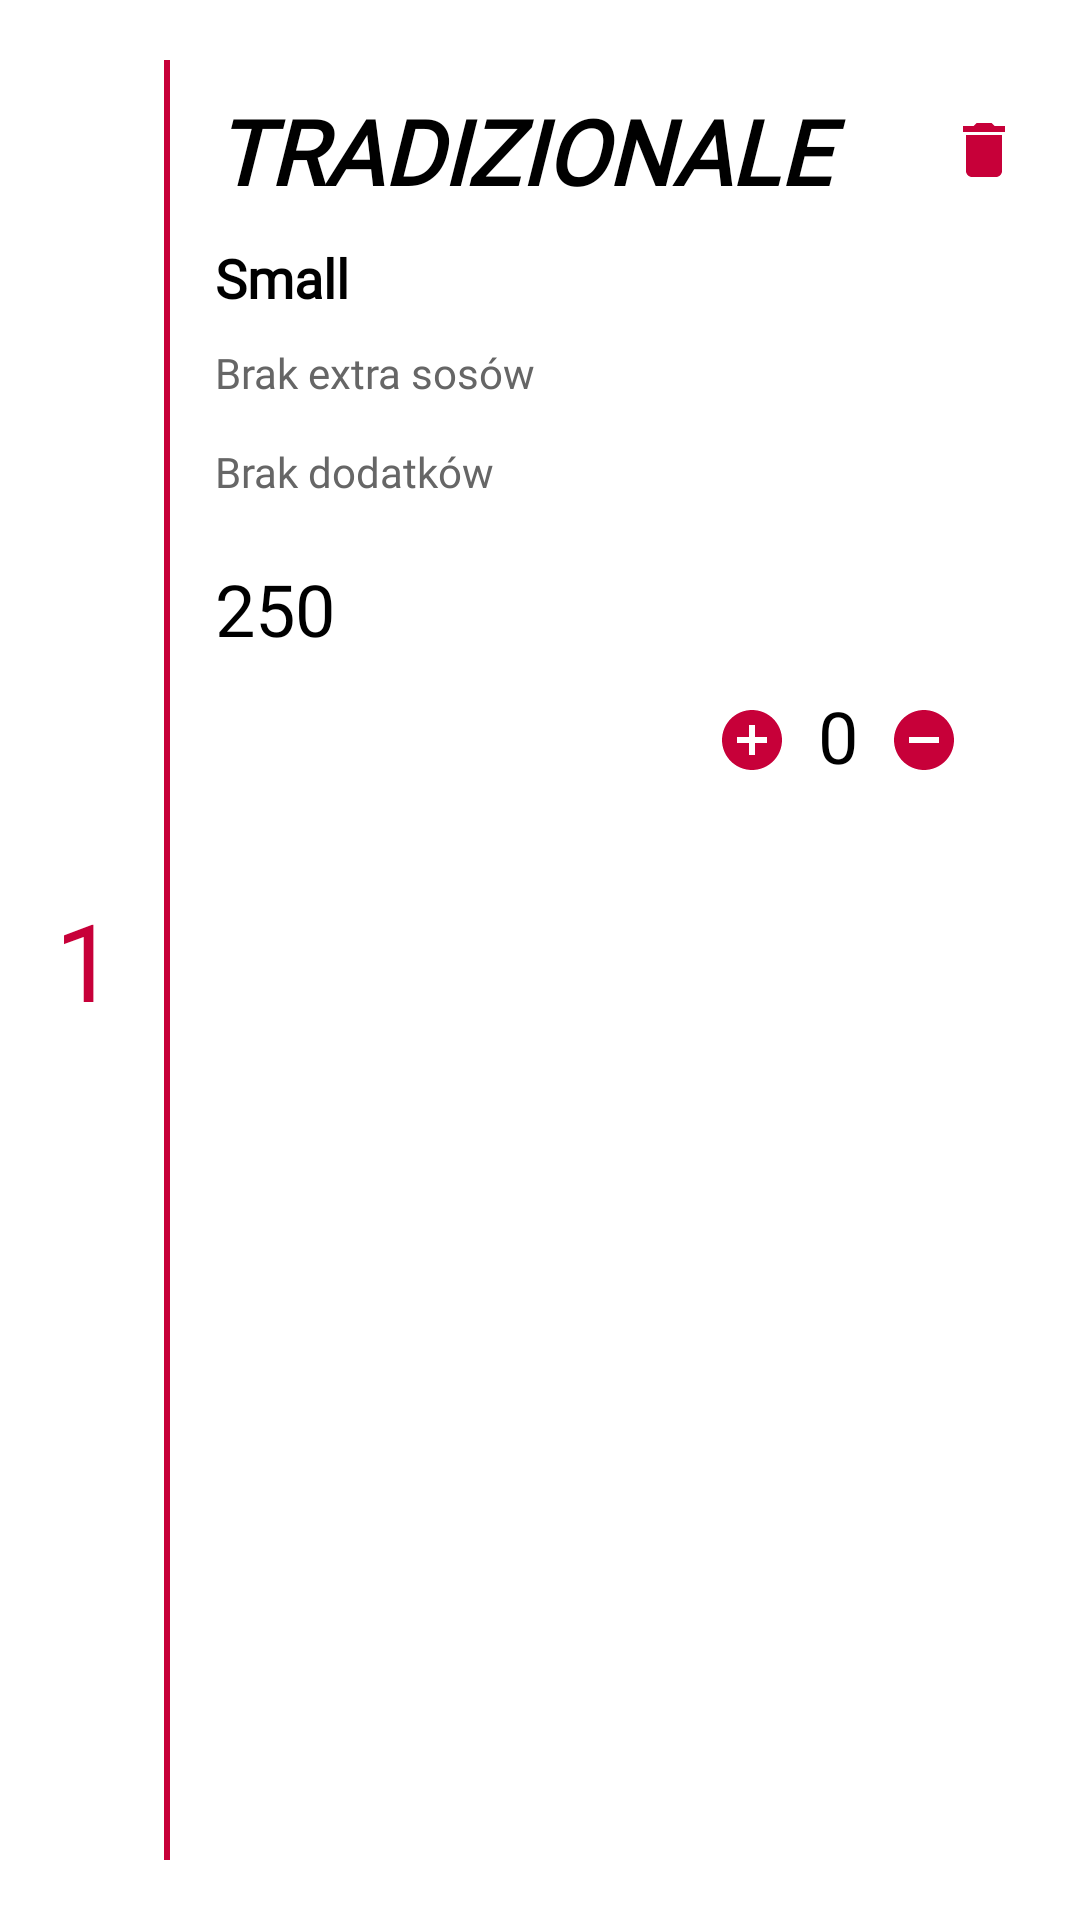

Icon bounding boxes for this 1080 × 1920 phone screenshot, format (x1,y1,x2,y2):
delete: (963,123,1005,177)
